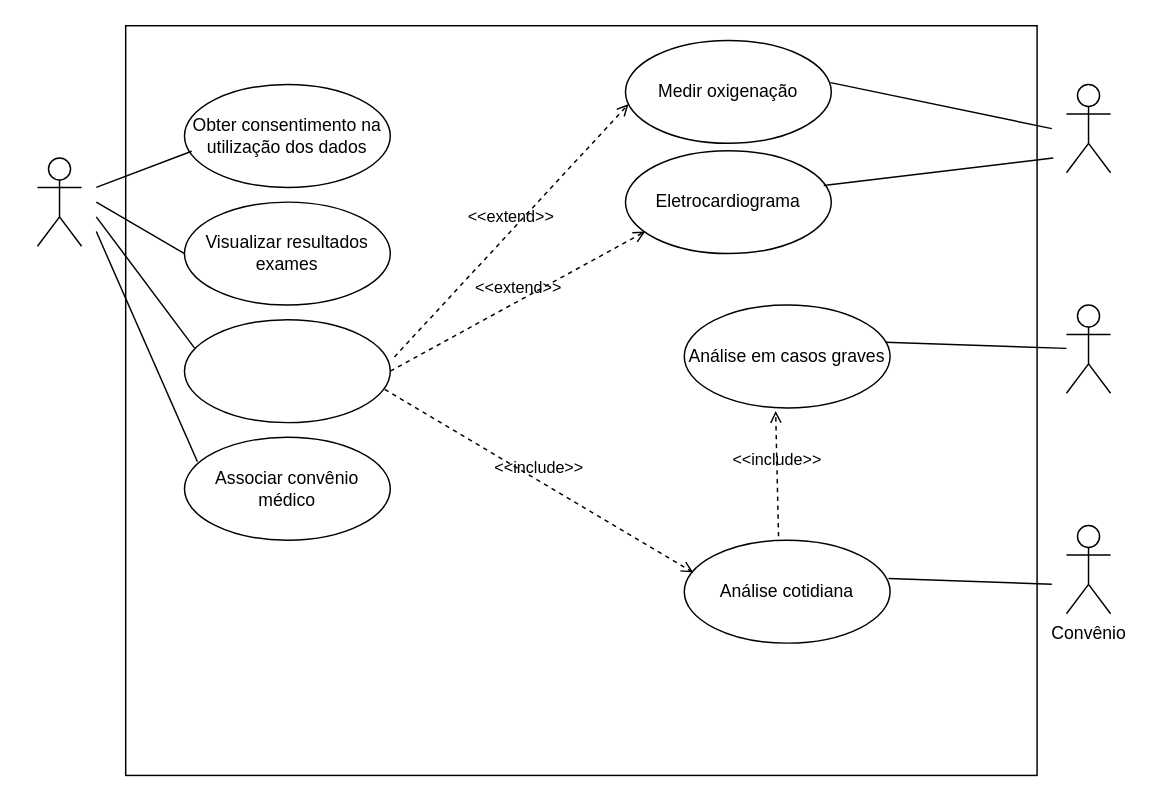
This 1163x801 diagram has some shape labels left out. The shapes that lost their labels are listed below. From the top down, each one's centre as x and y in pixels, then its label:
At (x=1088, y=128): "SmartWatch".
At (x=59, y=201): "Paciente".
At (x=1088, y=348): "Médico".
At (x=286, y=370): "Realizar exame".
